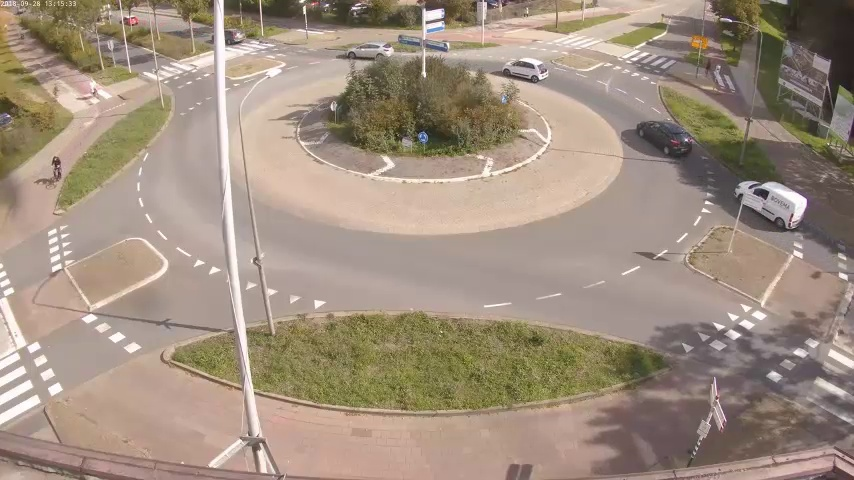bicycle: (45, 154, 65, 190), (85, 76, 103, 106)
car: (632, 122, 693, 159), (504, 53, 552, 82), (349, 41, 392, 60), (212, 26, 244, 47), (118, 14, 139, 26)
van: (740, 185, 804, 235)
